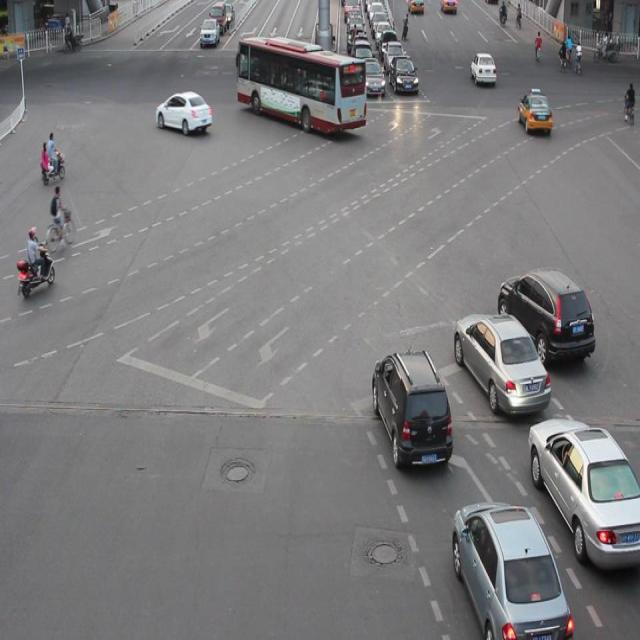car: (526, 416, 640, 570), (452, 498, 571, 640), (453, 310, 550, 413), (371, 348, 453, 465), (497, 266, 594, 362), (155, 90, 212, 136)
van: (238, 38, 366, 134)
